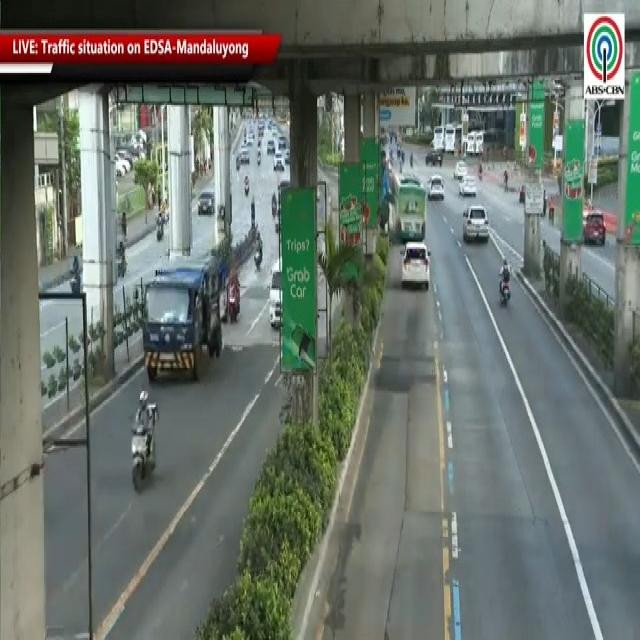car: (400, 236, 433, 292), (464, 203, 493, 249), (423, 172, 444, 206)
motorbike: (130, 374, 158, 503), (222, 264, 244, 331), (495, 252, 518, 316), (251, 220, 262, 276)
truck: (134, 239, 230, 387)
